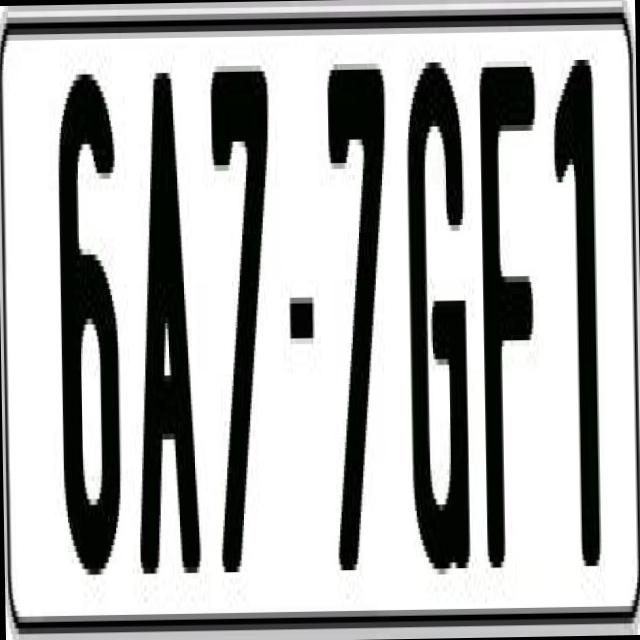1: (550, 59, 600, 596)
6: (52, 73, 120, 610)
7: (208, 71, 282, 584), (324, 51, 390, 553)
A: (132, 65, 202, 568)
F: (476, 48, 546, 573)
G: (404, 43, 476, 580)
